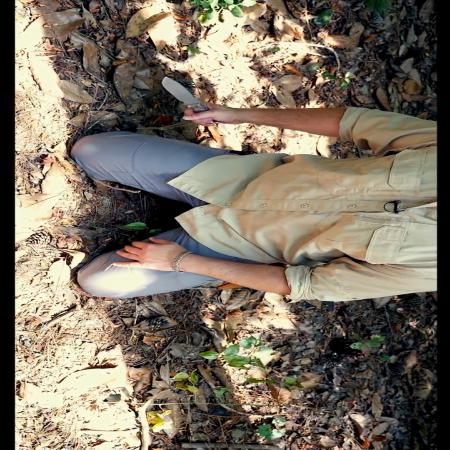long weapon: (150, 70, 220, 128)
